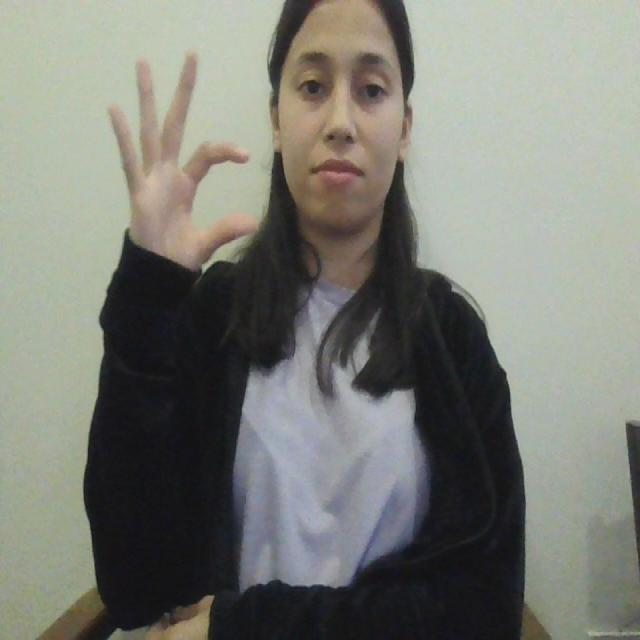Tuvalet: (58, 6, 290, 356)
